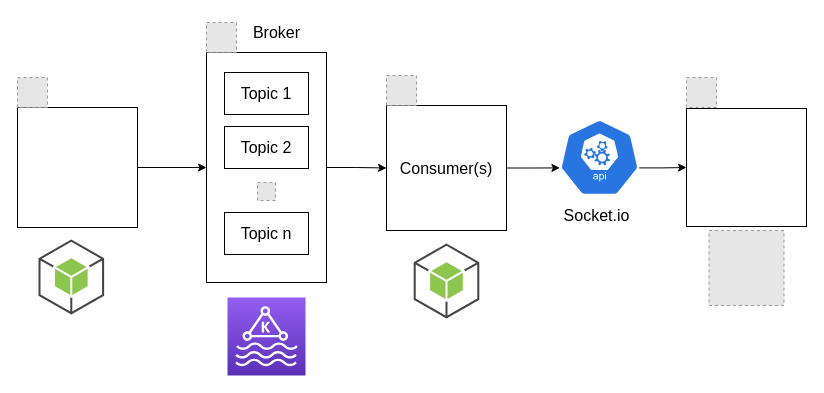
Image size: 824x393. Some labels were removed from this diagram. Grey dashed boxes stand in for pictures. Here are the shapes that lost their labels. From the top down, the box of each, then its label:
(16, 106, 138, 228): Producer
(686, 108, 806, 226): Client
